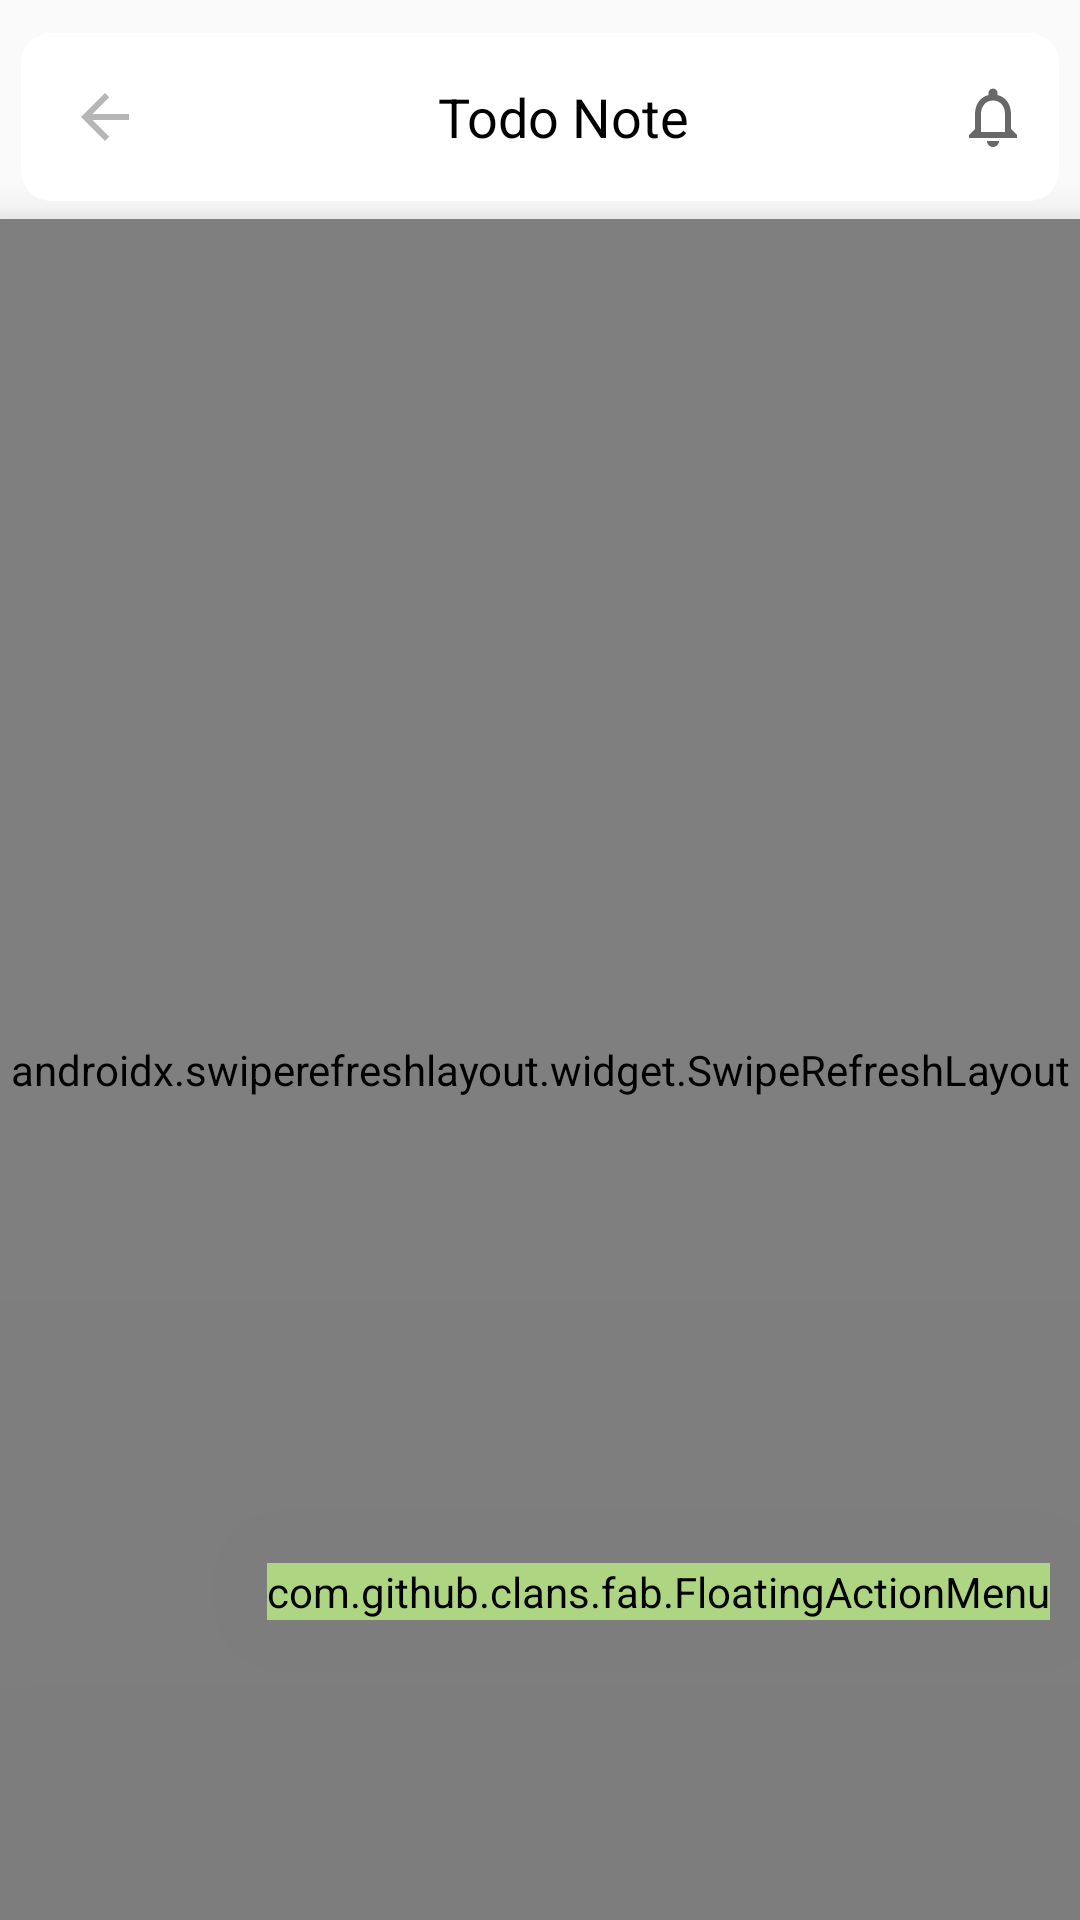

Where to tap for icons on this 1080 × 1920 app screen, as [x,y]:
arrow back: [105,117]
notifications none: [993,117]
